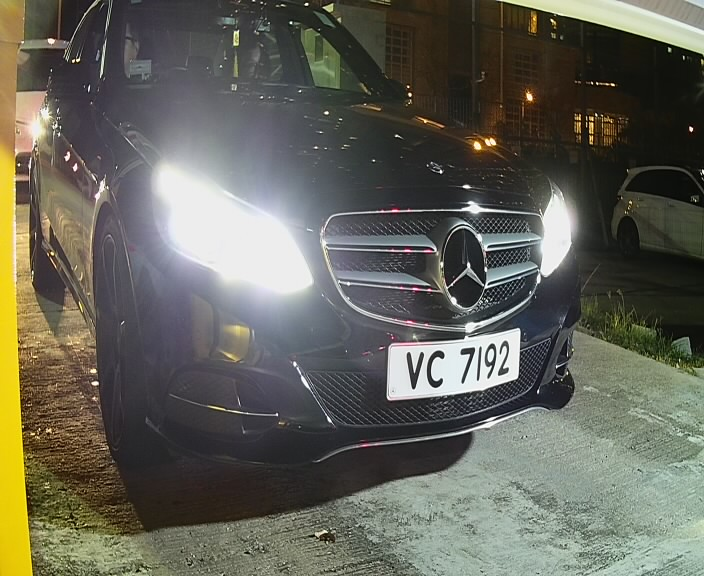License Plate: (383, 324, 532, 407)
